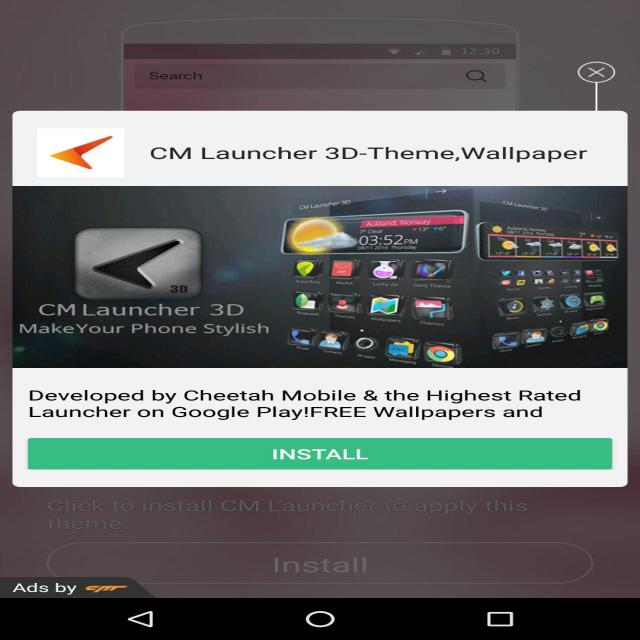icon: (78, 232, 267, 325), (60, 129, 140, 176)
text: (25, 381, 614, 430), (139, 125, 589, 173)
